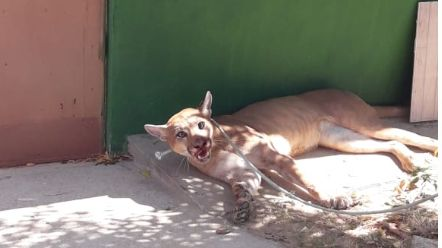OncaParda: (139, 88, 437, 220)
